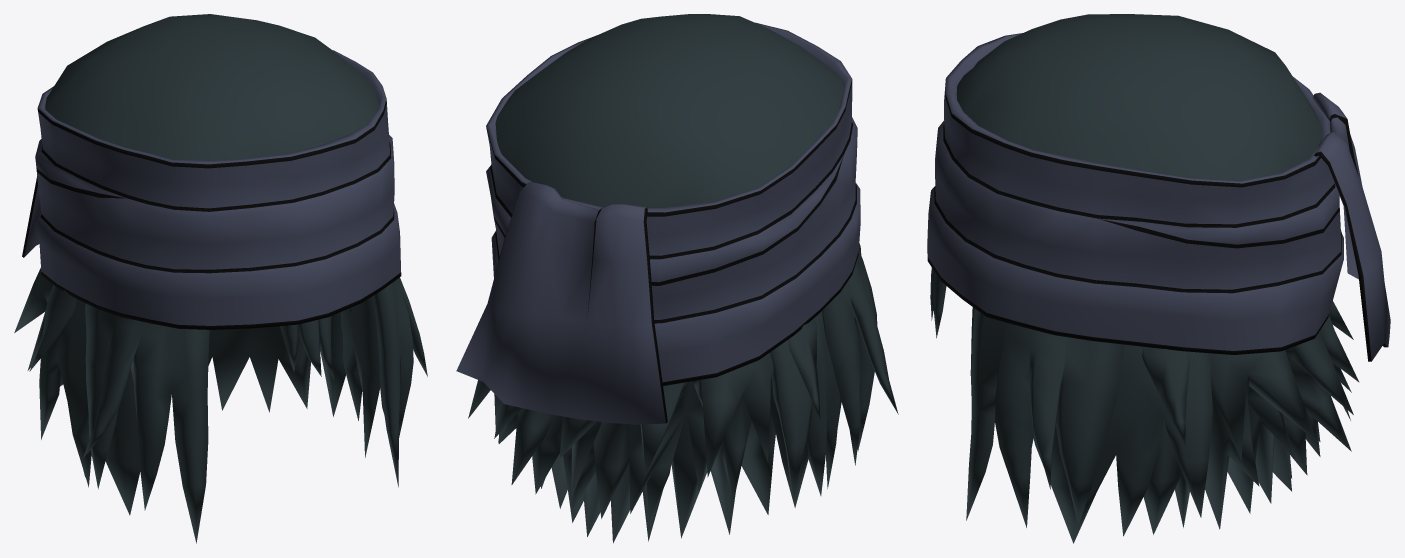
File: Sasuke Headband.obj
3 views of the same model, side by side, from view 1: azimuth 30°, elevation 25°; view 2: azimuth 150°, elevation 25°; view 3: azimuth 270°, elevation 25° (orthographic). The views are drawn at different scales.
Parts seen in each view (by area): view 1: SK_CHR_Man_HatTurban_01.mo; view 2: SK_CHR_Man_HatTurban_01.mo; view 3: SK_CHR_Man_HatTurban_01.mo.
Boxes of the visible parts, x1,y1,x2,y2 form: SK_CHR_Man_HatTurban_01.mo: (14,14,427,543); SK_CHR_Man_HatTurban_01.mo: (456,14,898,543); SK_CHR_Man_HatTurban_01.mo: (927,14,1390,543).
Bounding box in the file's own units: 0.2302 × 0.2751 × 0.2559.
2 materials, 2 textured.
